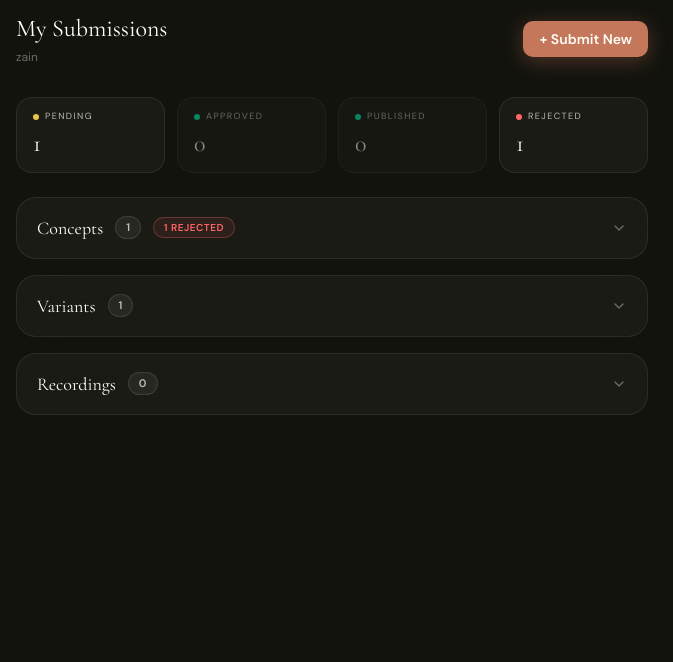
Test: MySubmissions page — summary strip › picking a status opens the sections that have it, filtered to it
What coordinates should you click on to do the following:
click the button with aria-label "Rejected: 1"
I would click on:
 (574, 135)
Its box is [499,97,648,172].
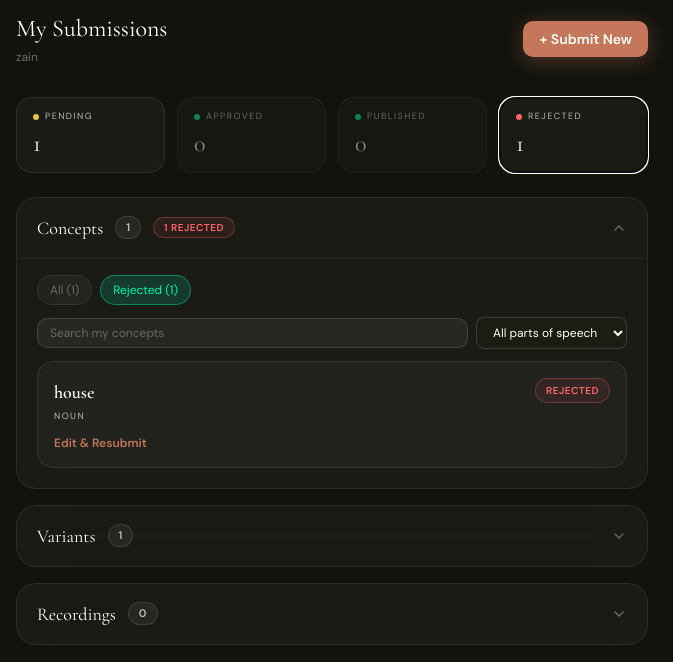
Result: the button "Concepts 1 1 rejected" is expanded at [17,198,647,258]
